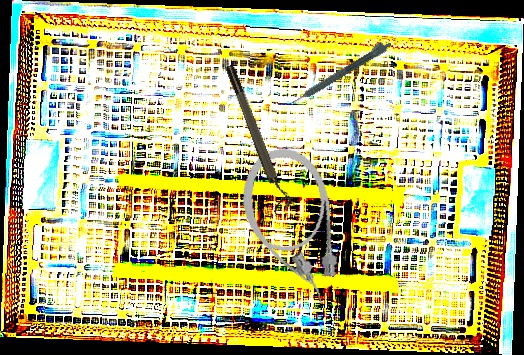Cannula: (233, 141, 351, 316)
Fixation Ring: (222, 61, 295, 213)
Handpiece: (287, 36, 394, 107)
